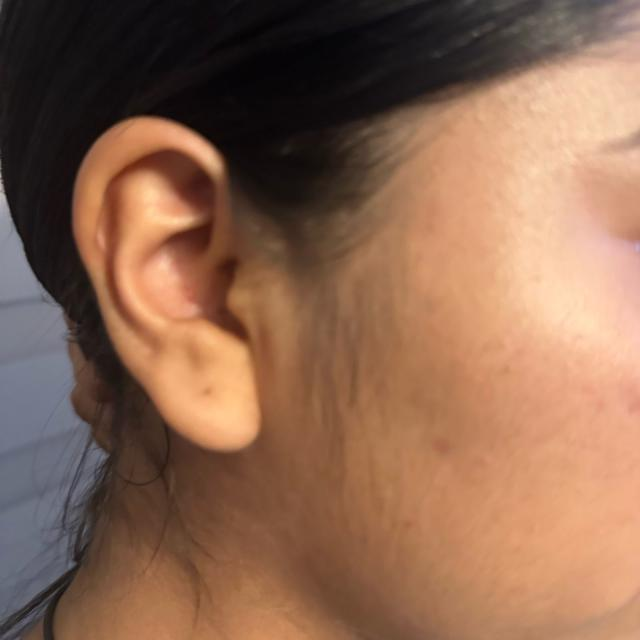ear: (72, 116, 261, 451)
